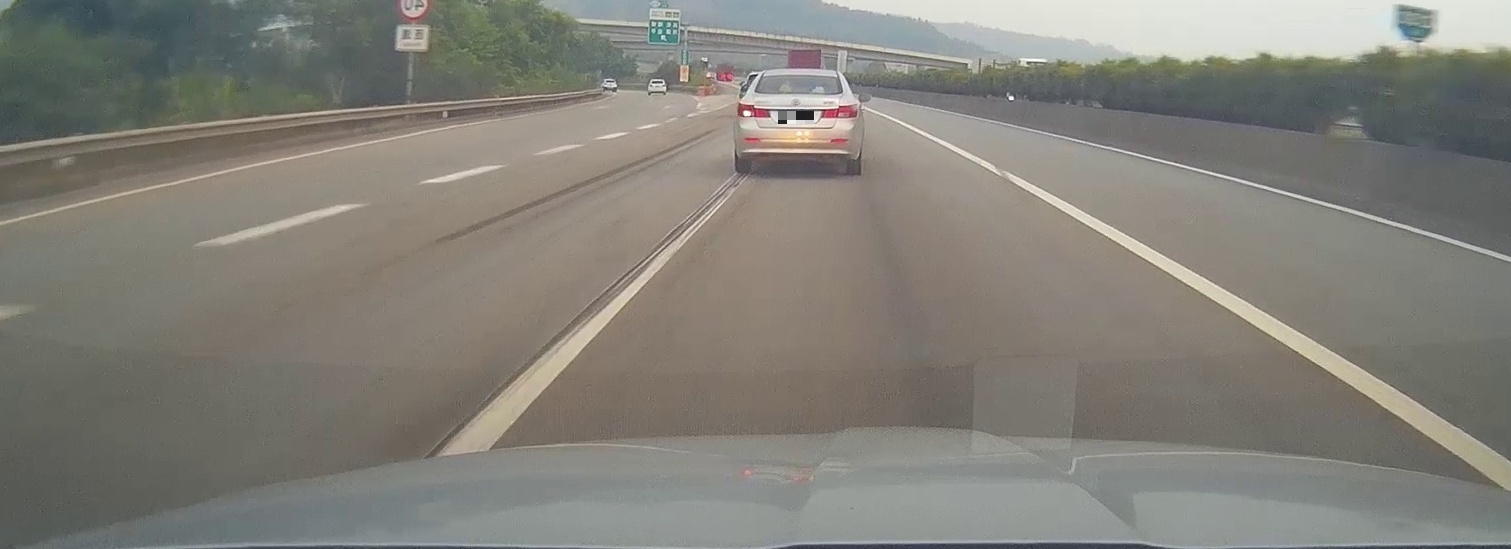L_light: (737, 103, 770, 118)
R_light: (821, 103, 858, 118)
T_light: (791, 73, 809, 77)
day-left: (733, 68, 862, 175)
plate_1: (778, 111, 814, 124)
